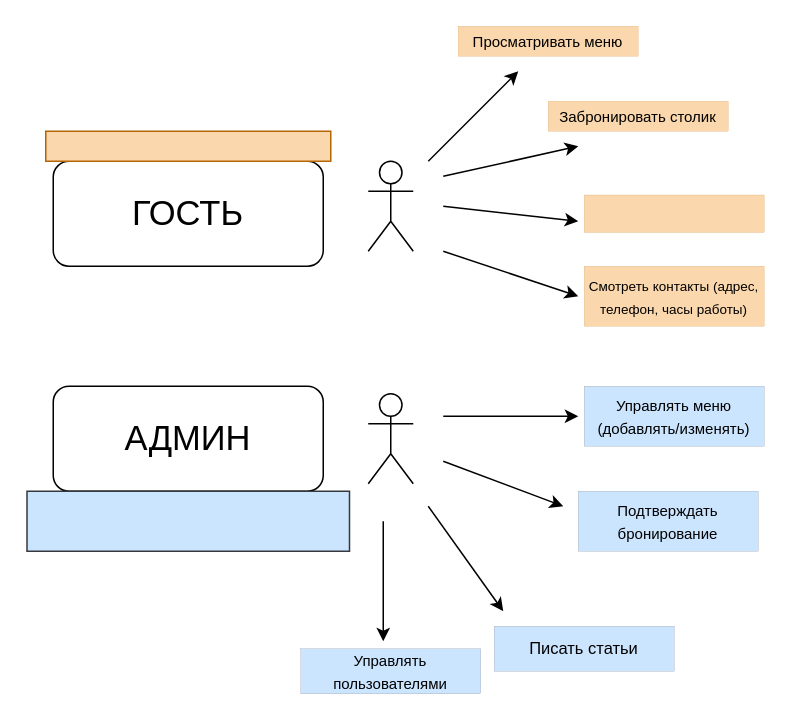
Some shapes in this 789 by 719 pixel diagram are drawn without their labels. The shapes that lost their labels are listed below. From the top down, each one's centre as x and y in pixels, then its label:
the point at 187,145: тот, кто будет посещать сайт
the point at 674,213: Читать блог/статьи о блюдах
the point at 188,520: управляет меню, подтверждает бронирование, пишет статьи (блог) и тп.
